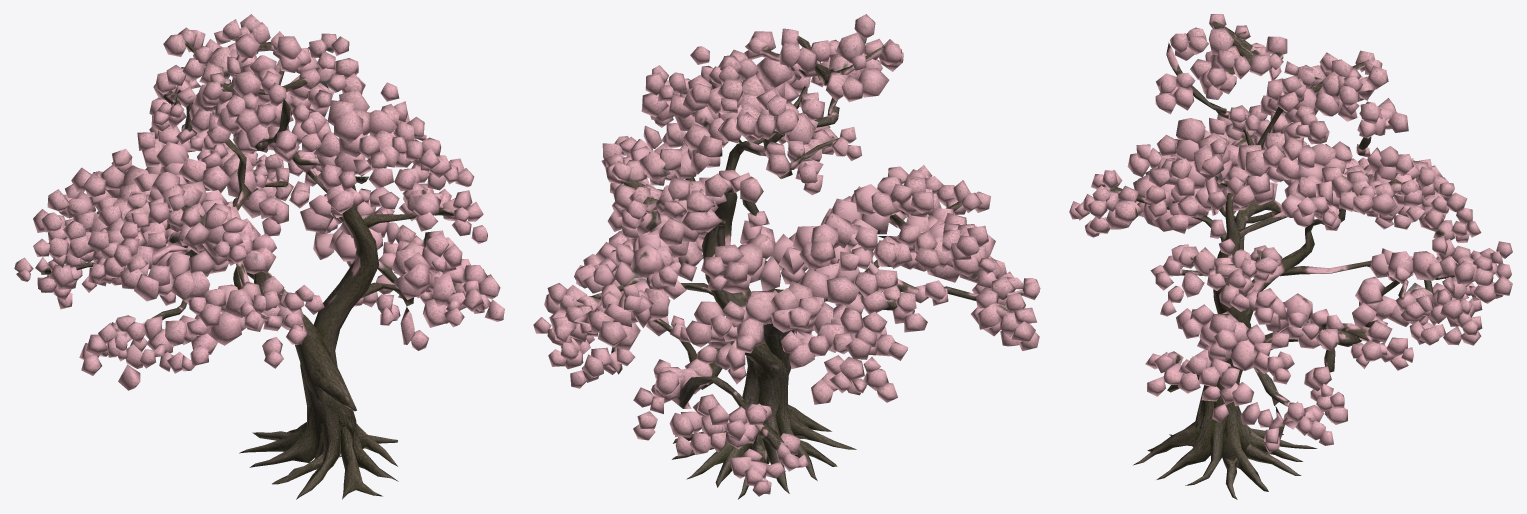
The model's file is Meshy_AI_Blushing_Sakura_Tree_0915193653_texture.glb.
3 renders of one model, left to right at view 1: azimuth 30°, elevation 25°; view 2: azimuth 150°, elevation 25°; view 3: azimuth 270°, elevation 25°, orthographic. The views are drawn at different scales.
Size of the model in its own units: 1 by 0.9941 by 0.9902.
Materials: 1 (1 with a texture image).
